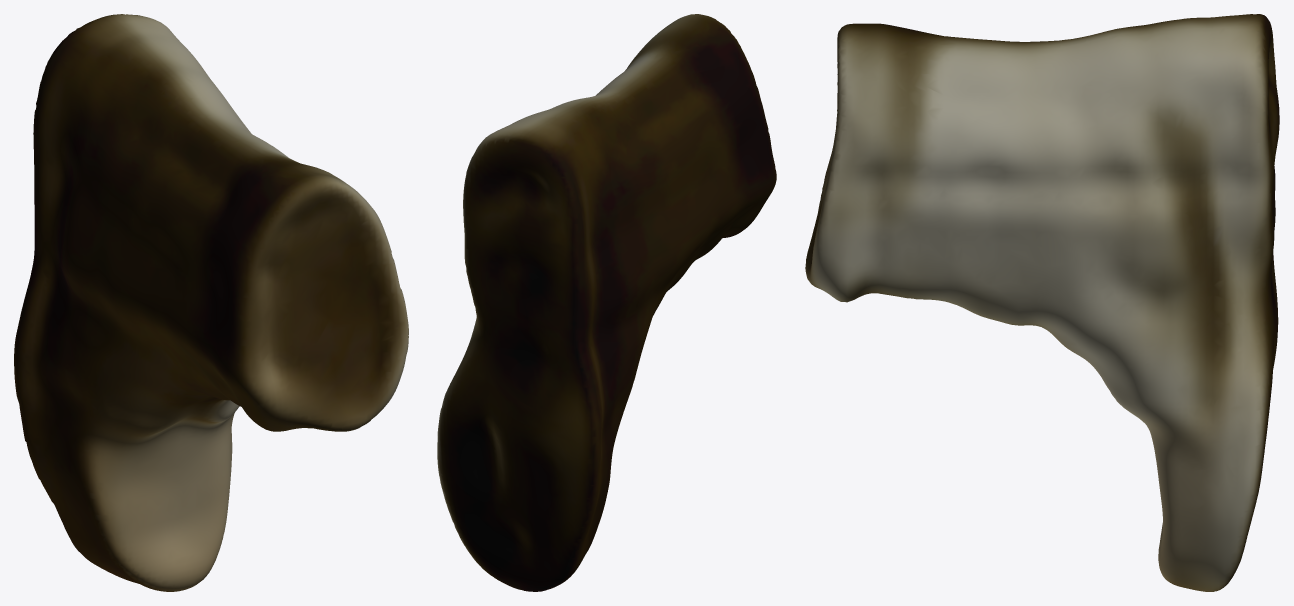
File: shoe1.glb
3 views of the same model, side by side, from view 1: azimuth 30°, elevation 25°; view 2: azimuth 150°, elevation 25°; view 3: azimuth 270°, elevation 25° (orthographic). The views are drawn at different scales.
Bounding box in the file's own units: 0.3708 × 0.9994 × 0.7787.
